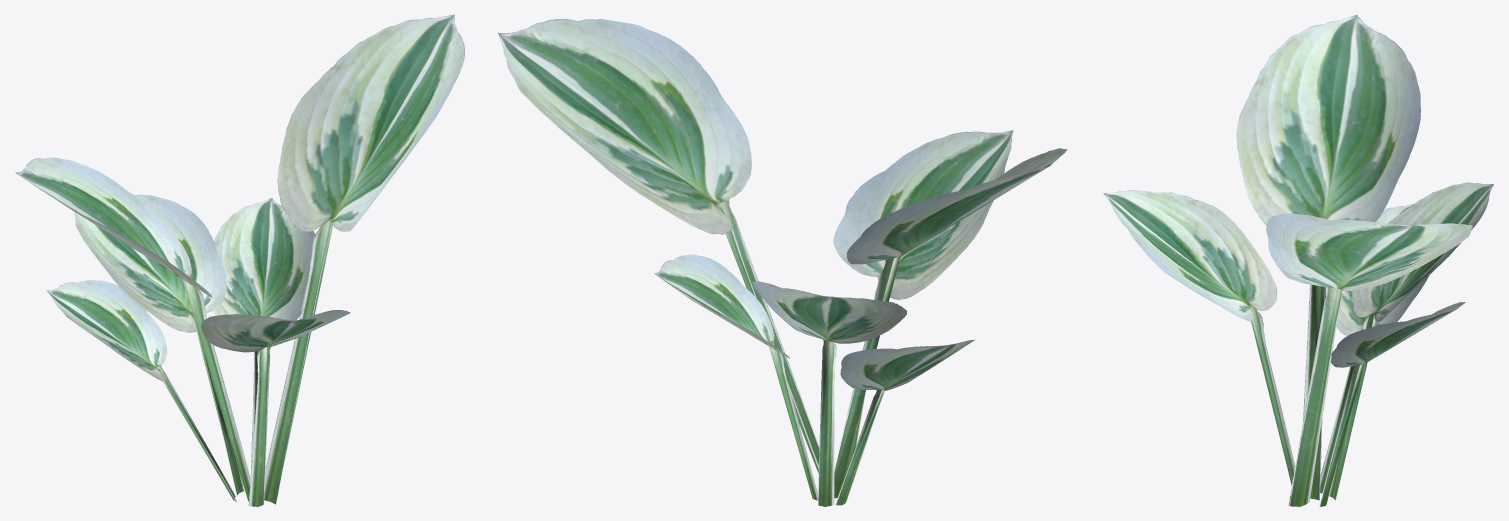
Rendered from plant_small_wg_01AA.fbx.
The picture shows the model from 3 angles, left to right: view 1: azimuth 30°, elevation 25°; view 2: azimuth 150°, elevation 25°; view 3: azimuth 270°, elevation 25°; orthographic projection. The views are drawn at different scales.
Parts seen in each view (by area): view 1: plant_small_wg_01AA; view 2: plant_small_wg_01AA; view 3: plant_small_wg_01AA.
Boxes of the visible parts, bbox=[...] form: plant_small_wg_01AA: bbox=[15, 14, 465, 506]; plant_small_wg_01AA: bbox=[498, 18, 1067, 506]; plant_small_wg_01AA: bbox=[1103, 14, 1493, 506].
Size of the model in its own units: 107 by 85.04 by 75.16.
